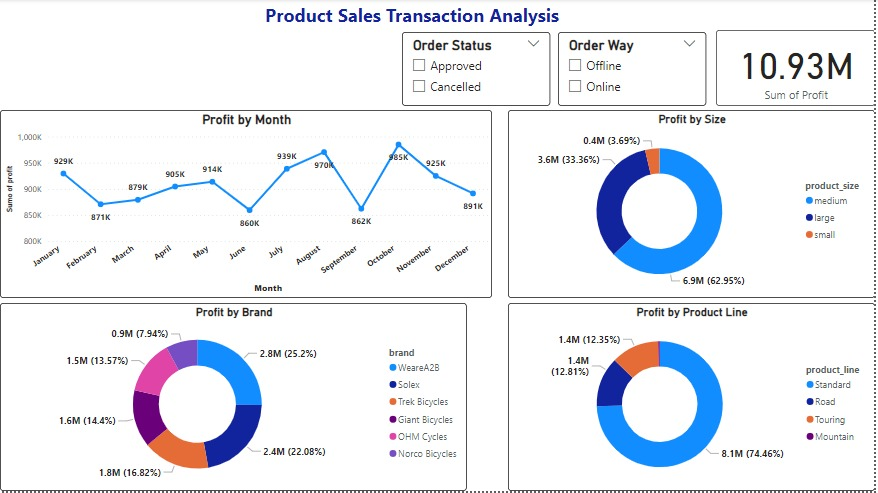

What the dashboard file says about the page in this screenshot:
{"tool":"powerbi","page":{"name":"Page 1","canvas":[1280,720],"ordinal":0},"visuals":[{"type":"textbox","box":[352.8,0,500.6,48.7],"z":0},{"type":"card","fields":{"Values":["Sum(Transaction_cleaned.Profit)"]},"box":[1047.3,45.4,232.7,111.2],"z":1000},{"type":"donutChart","title":"Profit by Brand","fields":{"Category":["Transaction_cleaned.brand"],"Y":["Sum(Transaction_cleaned.Profit)"]},"box":[0,444.9,683.4,275.1],"z":2000},{"type":"donutChart","title":"Profit by Product Line","fields":{"Category":["Transaction_cleaned.product_line"],"Y":["Sum(Transaction_cleaned.Profit)"]},"box":[742.9,444.9,537.1,275.1],"z":3000},{"type":"slicer","fields":{"Values":["Transaction_cleaned.order_status"]},"box":[588.3,48.3,216.6,108.3],"z":4000},{"type":"slicer","fields":{"Values":["Transaction_cleaned.order_way"]},"box":[816.6,48.3,216.6,108.3],"z":5000},{"type":"donutChart","title":"Profit by Size","fields":{"Category":["Transaction_cleaned.product_size"],"Y":["Sum(Transaction_cleaned.Profit)"]},"box":[743.4,162.4,537.1,275.1],"z":6000},{"type":"lineChart","title":"Profit by Month","fields":{"Category":["Transaction_cleaned.transaction_date.Variation.Date Hierarchy.Month","Transaction_cleaned.transaction_date.Variation.Date Hierarchy.Day"],"Y":["Sum(Transaction_cleaned.Profit)"]},"box":[0,162.4,720,275.1],"z":7000}]}

Visuals, with their boxes in screenshot pixels (x1, y1, x2, y2), scaled from the page's 1280x720 canvas onto the 878x493 screenshot:
textbox: [left=242, top=0, right=585, bottom=33]
card - Sum(Transaction_cleaned.Profit): [left=718, top=31, right=877, bottom=107]
"Profit by Brand" donutChart: [left=0, top=305, right=469, bottom=492]
"Profit by Product Line" donutChart: [left=510, top=305, right=877, bottom=492]
slicer - Transaction_cleaned.order_status: [left=404, top=33, right=552, bottom=107]
slicer - Transaction_cleaned.order_way: [left=560, top=33, right=709, bottom=107]
"Profit by Size" donutChart: [left=510, top=111, right=877, bottom=300]
"Profit by Month" lineChart: [left=0, top=111, right=494, bottom=300]
